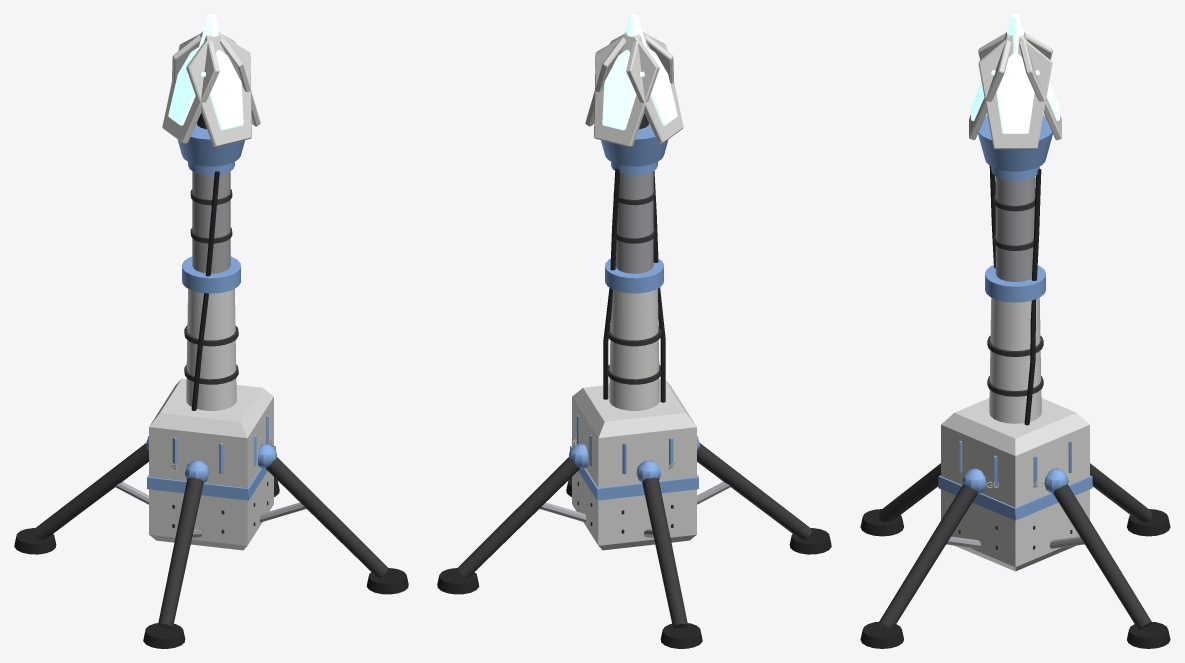
Rendered from guardpost.glb.
The picture shows the model from 3 angles, left to right: view 1: azimuth 30°, elevation 25°; view 2: azimuth 150°, elevation 25°; view 3: azimuth 270°, elevation 25°; orthographic projection. The views are drawn at different scales.
Parts seen in each view (by area): view 1: Body; view 2: Body; view 3: Body.
Boxes of the visible parts, box(x1,y1,x2,y2) form: Body: box(14, 14, 408, 648); Body: box(437, 14, 831, 648); Body: box(860, 14, 1170, 648).
Size of the model in its own units: 0.7081 by 1.43 by 0.7081.
